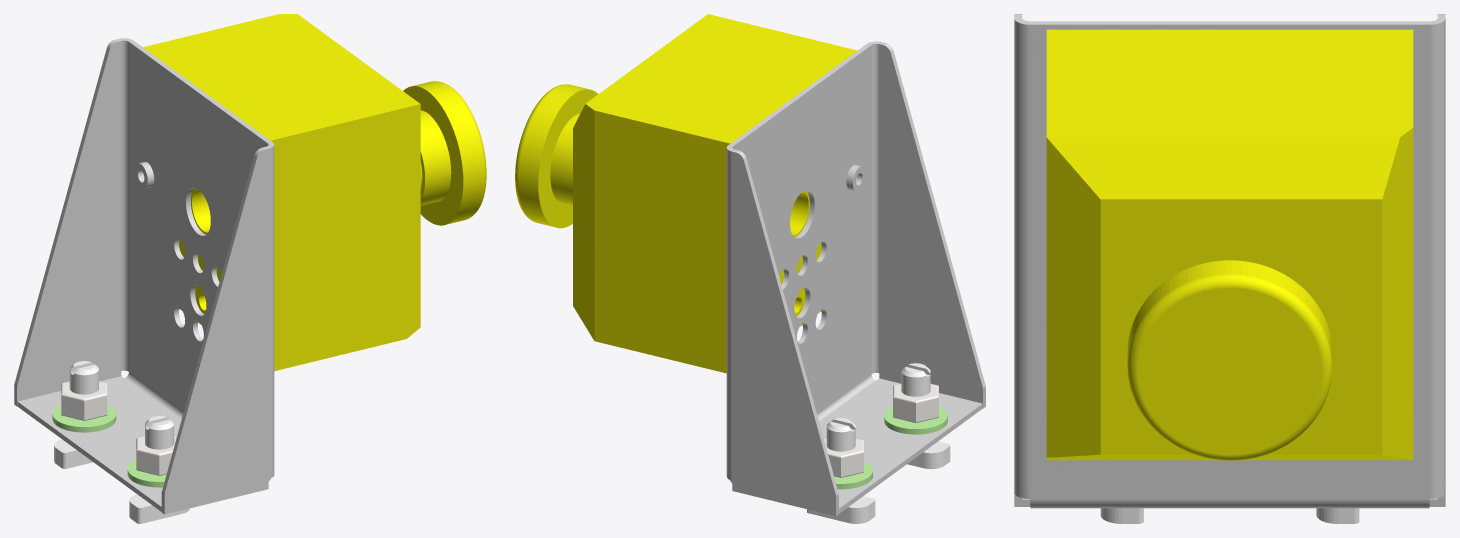
The model's file is CIMEmergencyBox.fbx.
3 renders of one model, left to right at view 1: azimuth 30°, elevation 25°; view 2: azimuth 150°, elevation 25°; view 3: azimuth 270°, elevation 25°, orthographic. The views are drawn at different scales.
Visible parts, largest first — view 1: 410856_Emergency Box_65x65; view 2: 410856_Emergency Box_65x65; view 3: 410856_Emergency Box_65x65.
Part boxes in pixels (box(x1,y1,x2,y2)): 410856_Emergency Box_65x65: box(14, 14, 486, 523); 410856_Emergency Box_65x65: box(515, 14, 985, 523); 410856_Emergency Box_65x65: box(1014, 14, 1445, 523).
Size of the model in its own units: 11.2 by 10.97 by 8.
